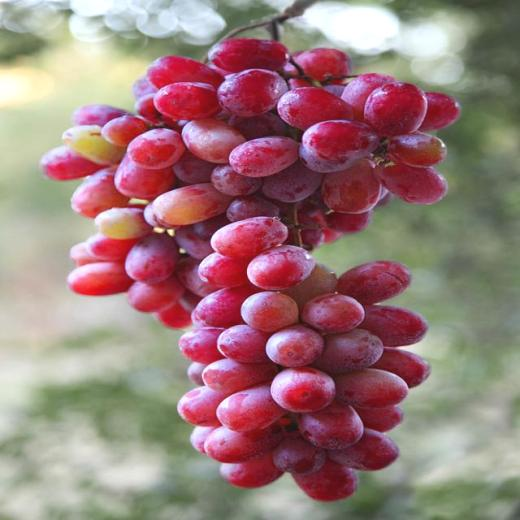Orange: (41, 37, 459, 503)
